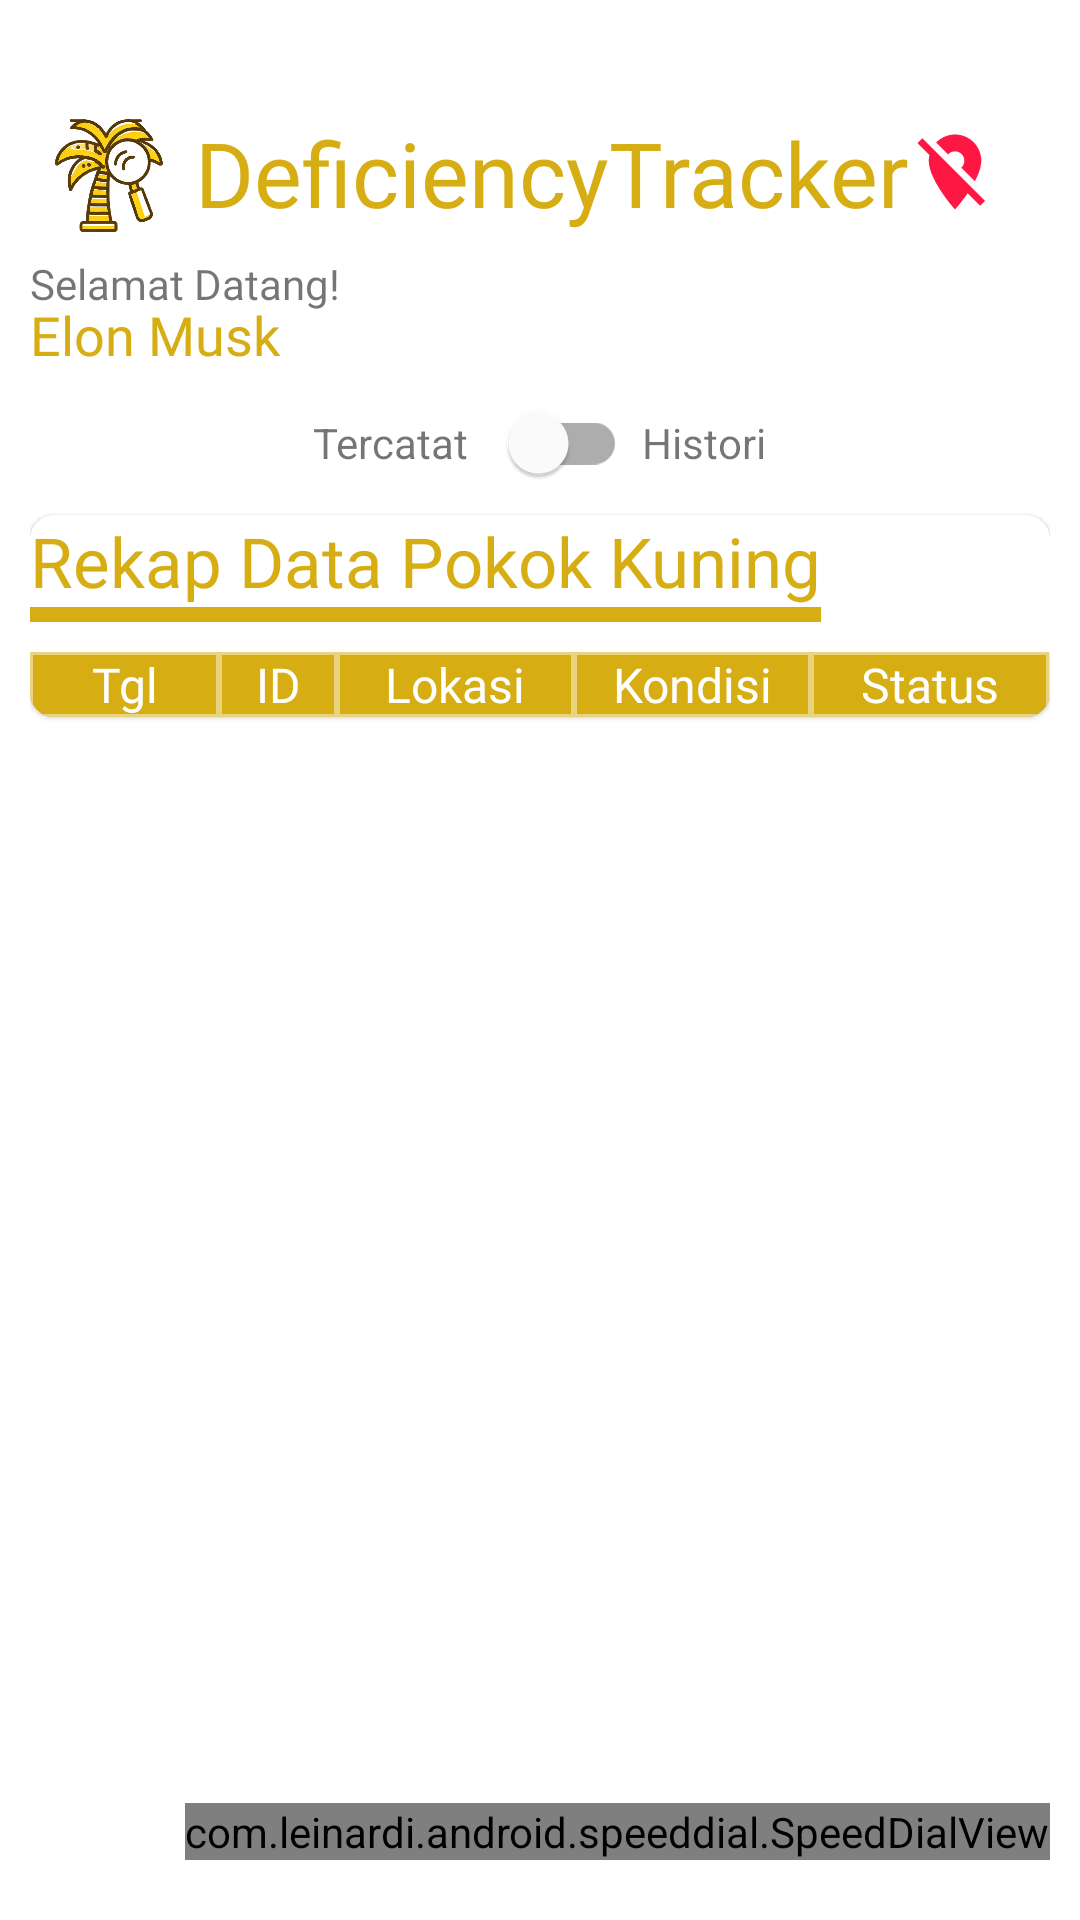

Icon bounding boxes for this 1080x1920 phone screenshot, format (x1, y1, x2, y2):
location off: (917, 134, 985, 209)
